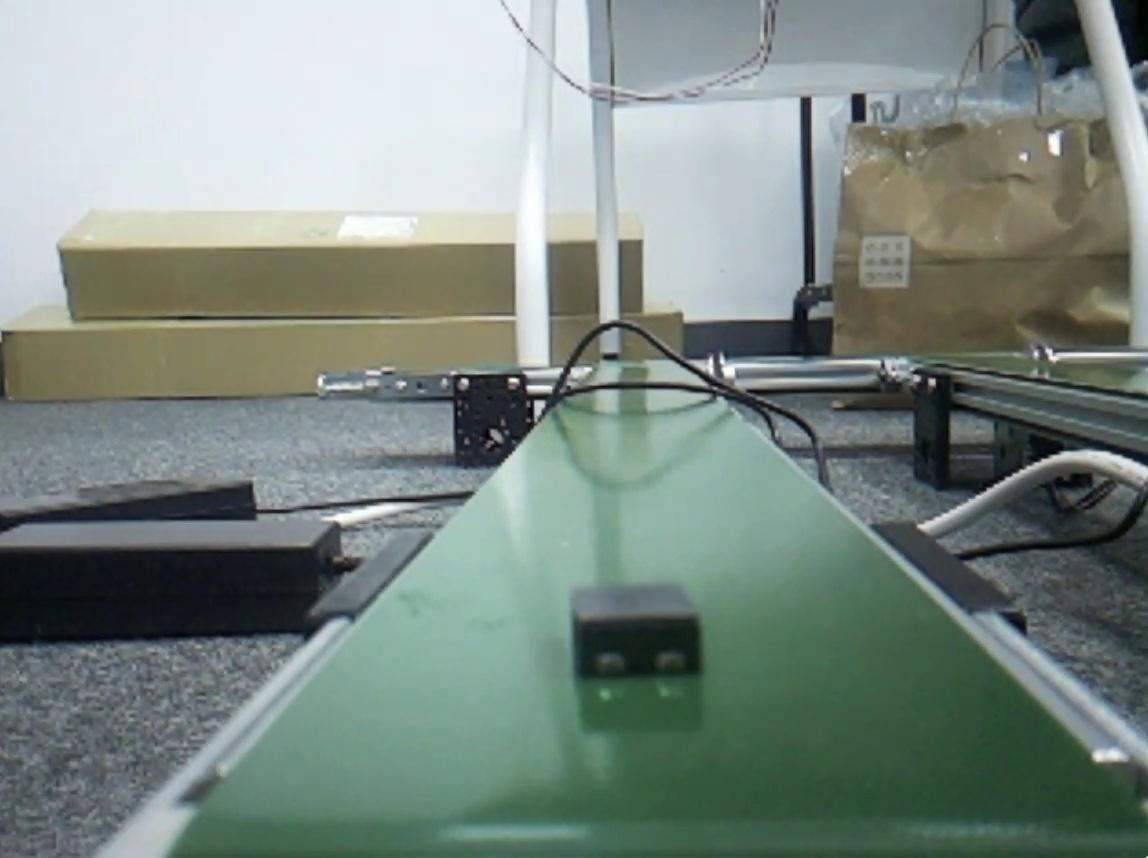inductor: (573, 588, 705, 683)
